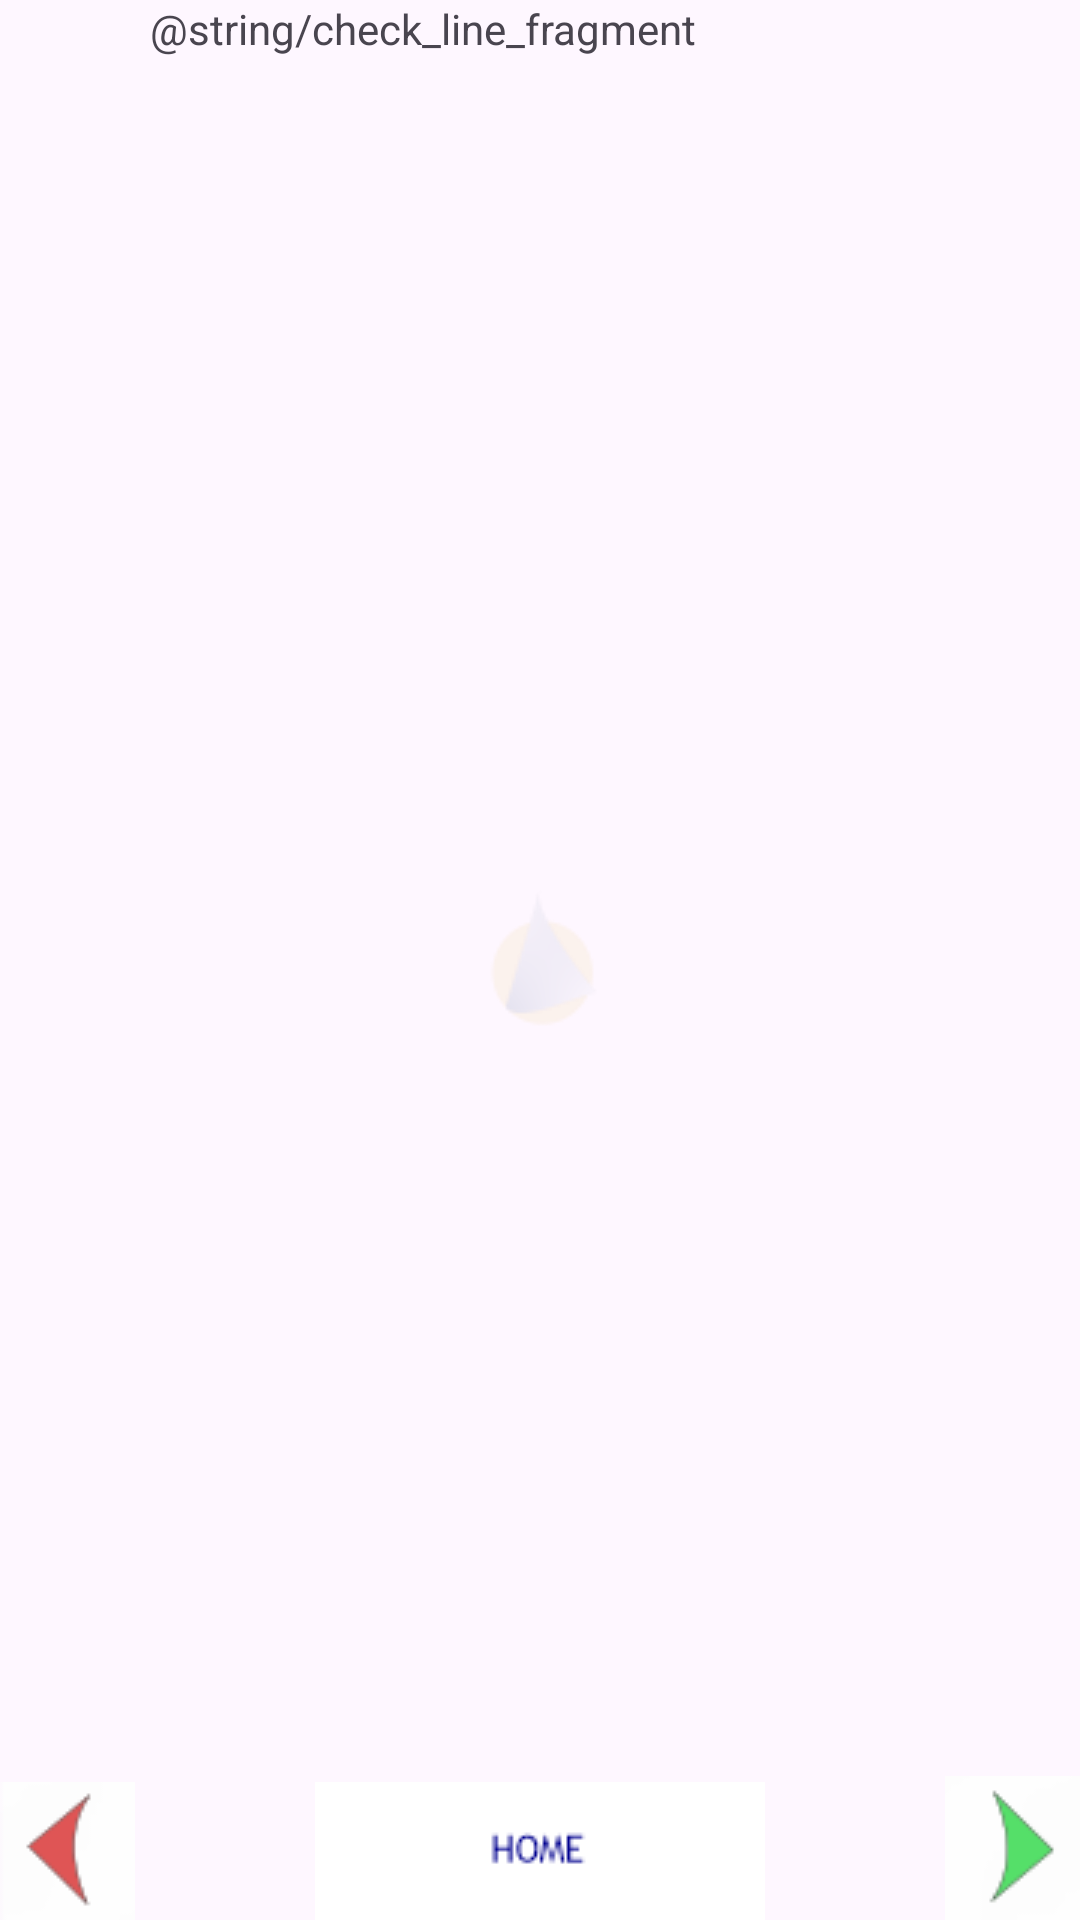

Icon click points for this 1080px×1920px phone screenshot, format (x,y):
Left Nav: (58,1849)
Right Nav: (1022,1846)
